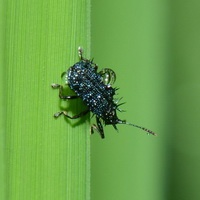insect: (52, 47, 155, 137)
